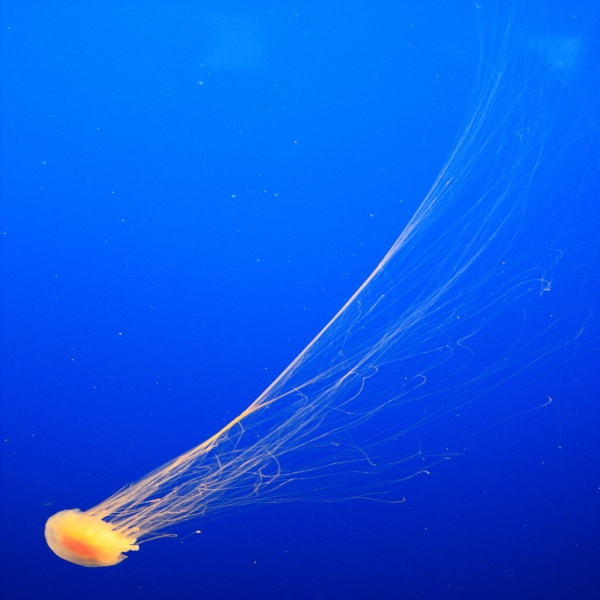Jellyfish: (47, 66, 577, 577)
